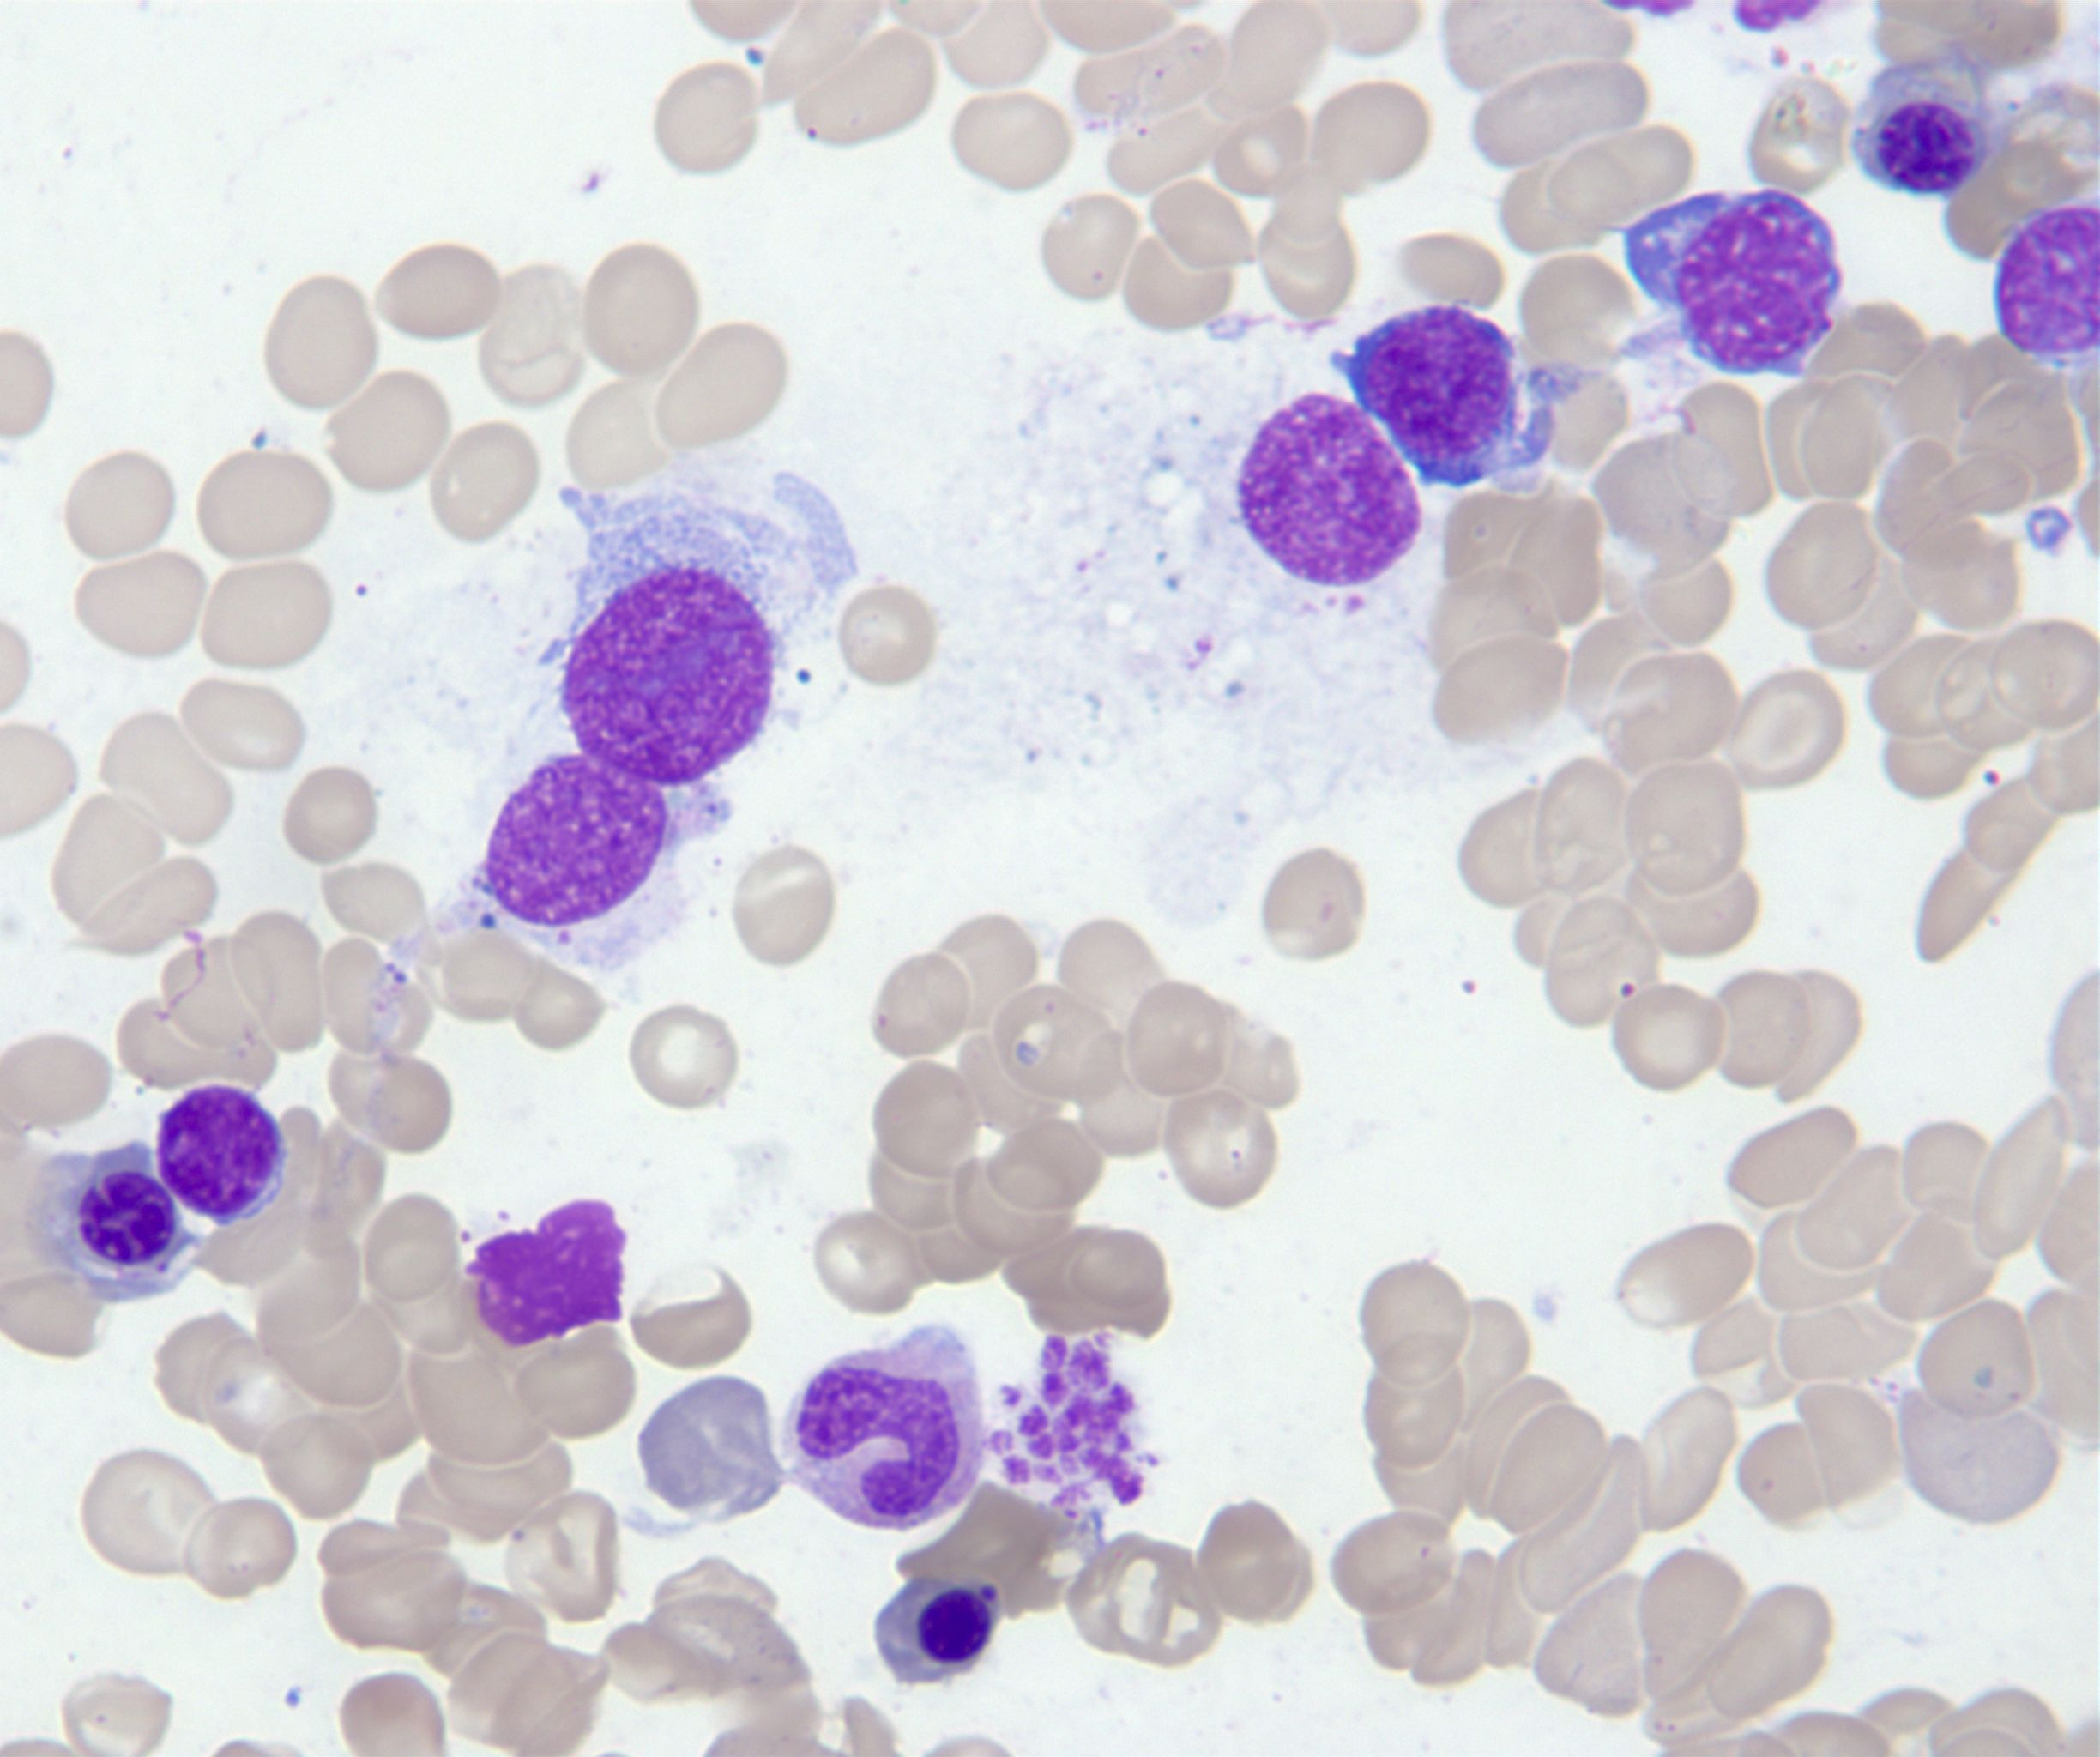23: (1331, 305, 1554, 489), (1626, 190, 1840, 379)
24: (23, 1143, 202, 1303), (1852, 40, 1987, 195), (874, 1574, 994, 1685)
32: (157, 1084, 286, 1228)
4: (783, 1324, 984, 1530)
x: (539, 473, 858, 785), (474, 754, 731, 975), (1238, 393, 1422, 586), (466, 1202, 628, 1349), (1997, 204, 2100, 358)
